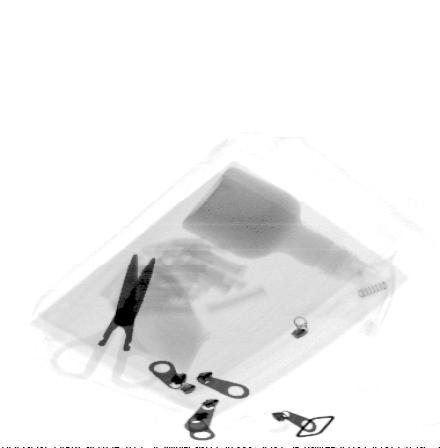Scissors: (51, 252, 164, 387)
